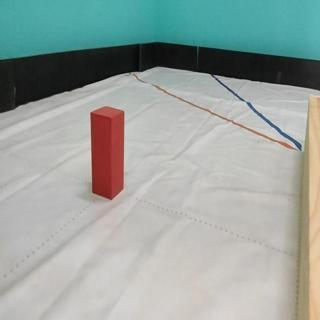redbox: (89, 106, 124, 200)
